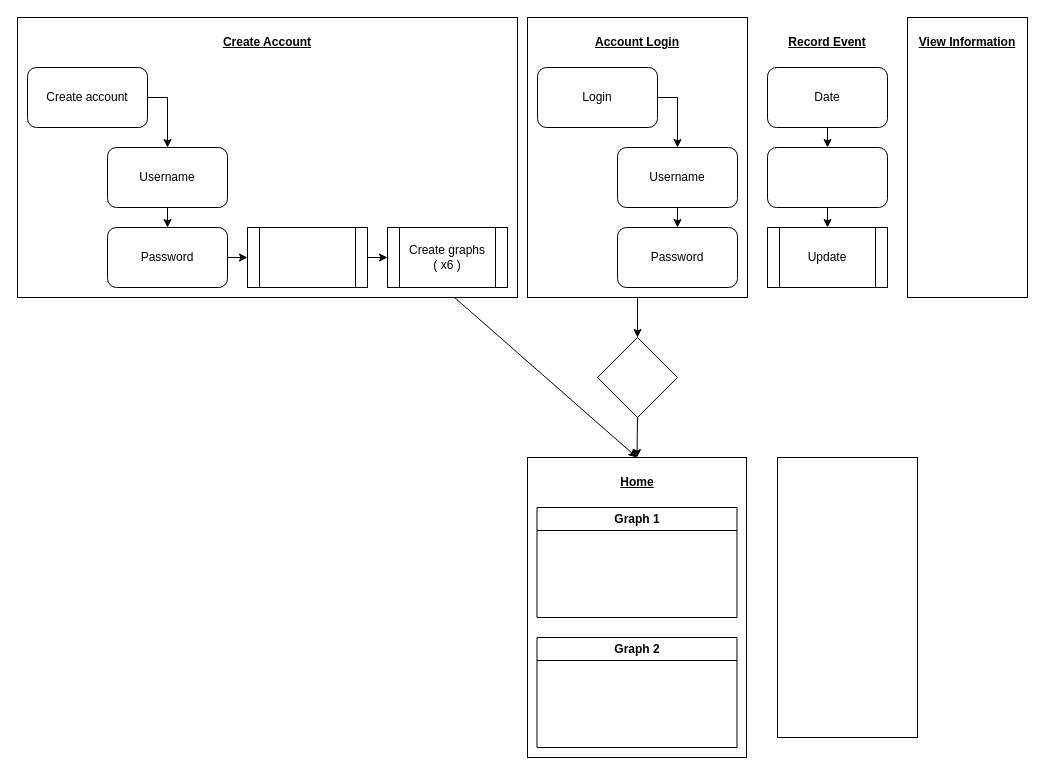
Image size: 1045x775. Some labels were removed from this diagram. Each missing label, with the centre of its shape:
"Create Acccount" goes at (x=307, y=257).
"Event" goes at (x=827, y=177).
"Valid Login?" goes at (x=637, y=377).
